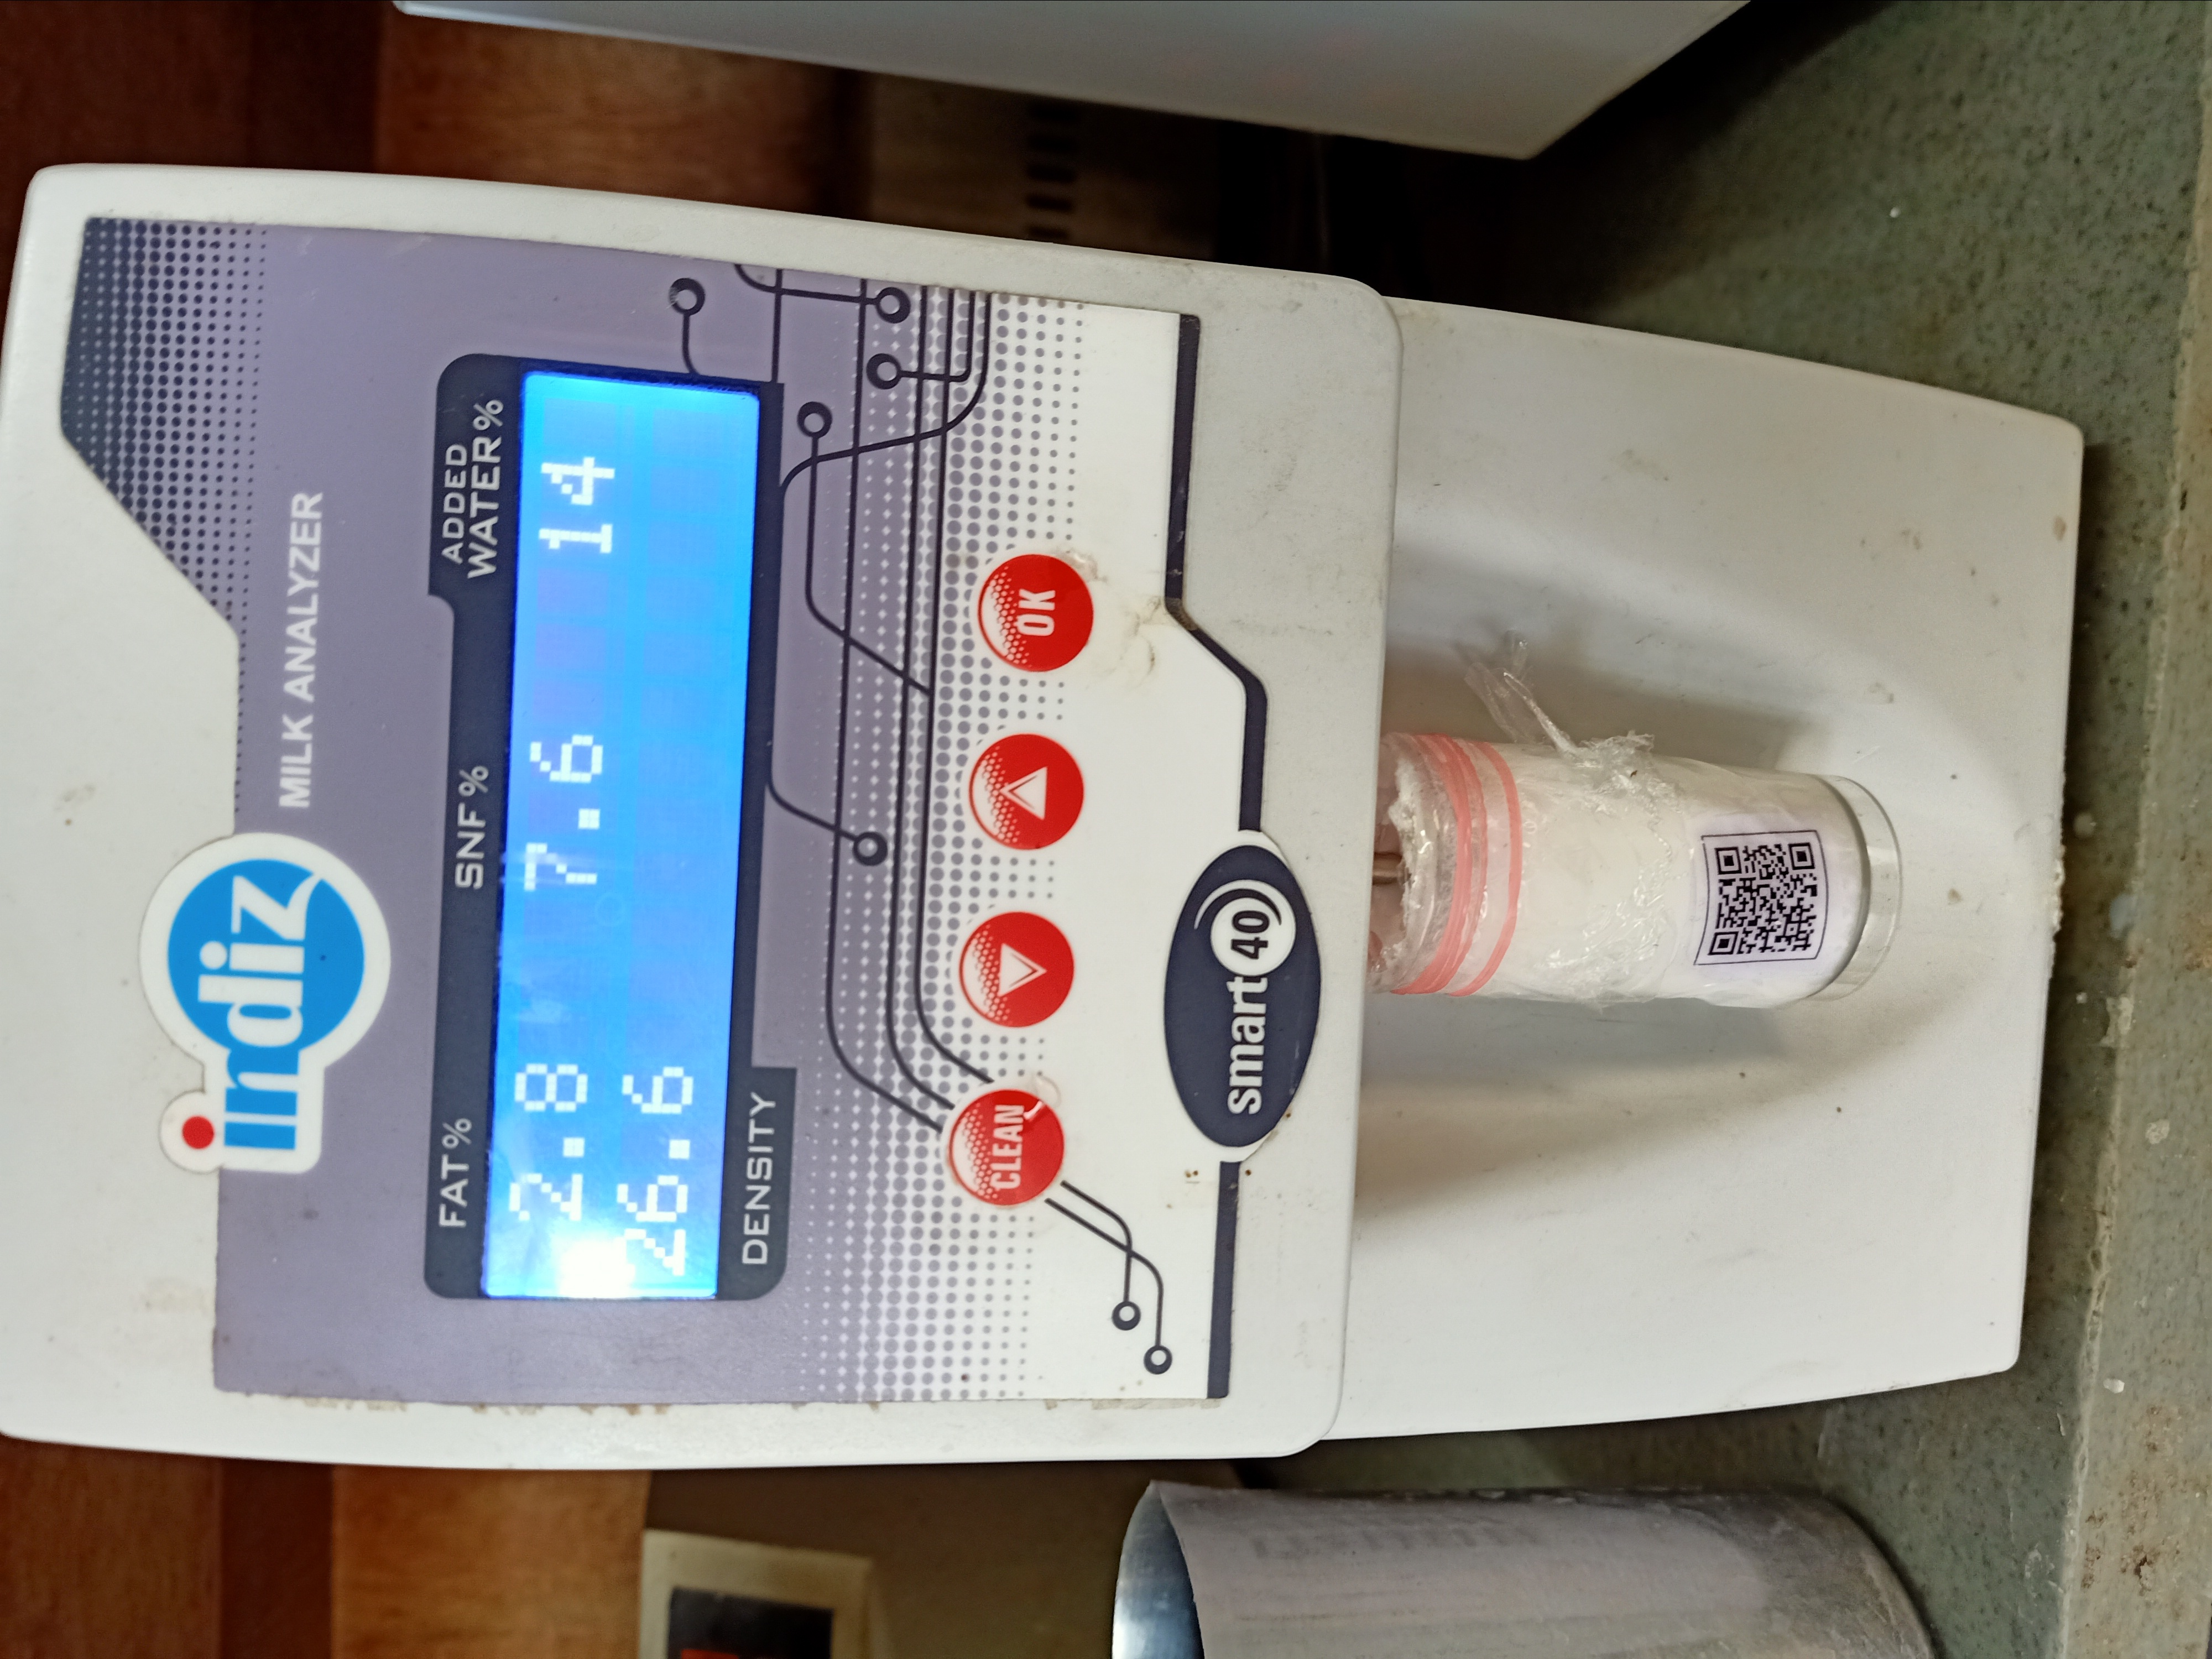lcd: (435, 349, 799, 1305)
